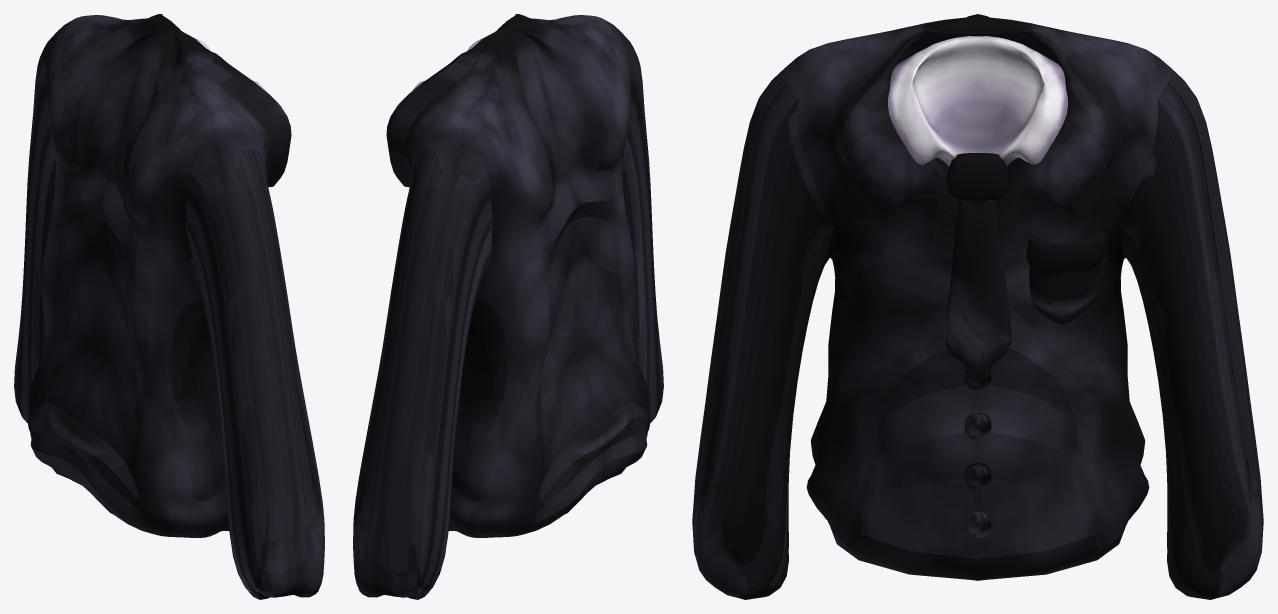
The model's file is Suit.fbx.
3 views of the same model, side by side, from view 1: azimuth 30°, elevation 25°; view 2: azimuth 150°, elevation 25°; view 3: azimuth 270°, elevation 25° (orthographic). The views are drawn at different scales.
Visible parts, largest first — view 1: Sphere; view 2: Sphere; view 3: Sphere, Sphere.001, Cube.001, Cube.
Part boxes in pixels (bbox=[...]): Sphere: bbox=[14, 14, 324, 599]; Sphere: bbox=[353, 14, 663, 599]; Sphere: bbox=[692, 14, 1263, 599]; Sphere.001: bbox=[888, 36, 1067, 166]; Cube.001: bbox=[944, 153, 1011, 380]; Cube: bbox=[1026, 230, 1106, 324].
Size of the model in its own units: 186 by 467 by 424.
Materials: 2 (2 with a texture image).
